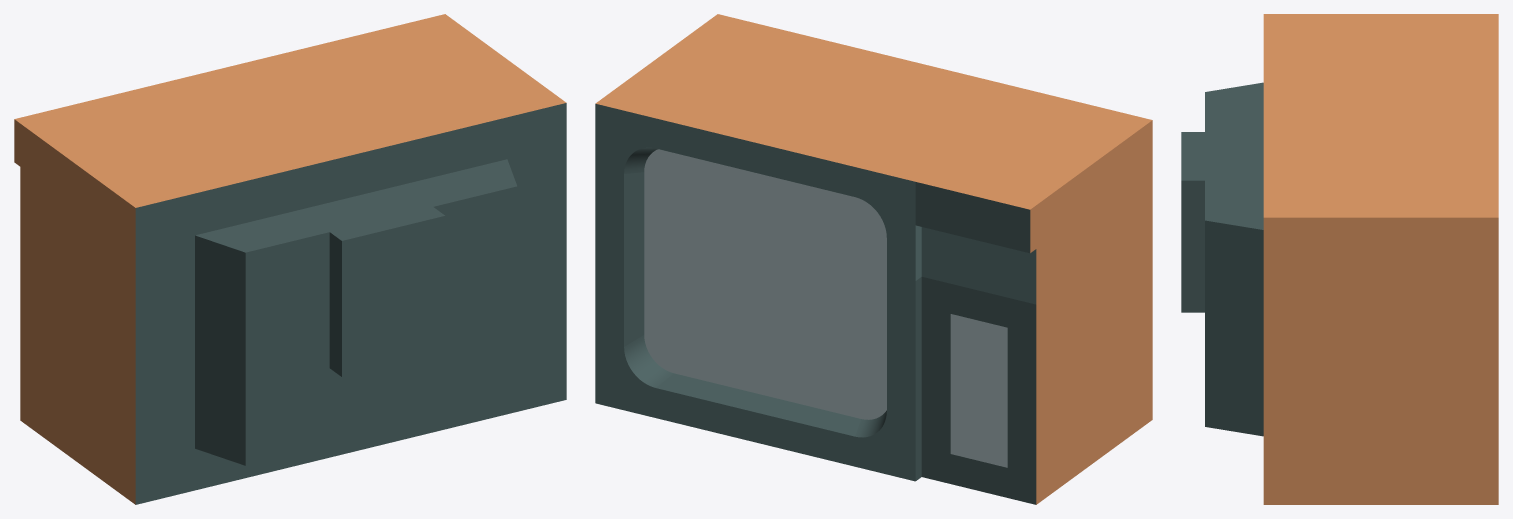
File: Television Vintage.glb
The picture shows the model from 3 angles, left to right: view 1: azimuth 30°, elevation 25°; view 2: azimuth 150°, elevation 25°; view 3: azimuth 270°, elevation 25°; orthographic projection. The views are drawn at different scales.
Parts seen in each view (by area): view 1: televisionVintage; view 2: televisionVintage; view 3: televisionVintage.
Part boxes in pixels (box(x1,y1,x2,y2)): televisionVintage: box(14, 14, 566, 504); televisionVintage: box(595, 14, 1152, 504); televisionVintage: box(1181, 14, 1498, 504).
Size of the model in its own units: 0.41 by 0.27 by 0.27.
